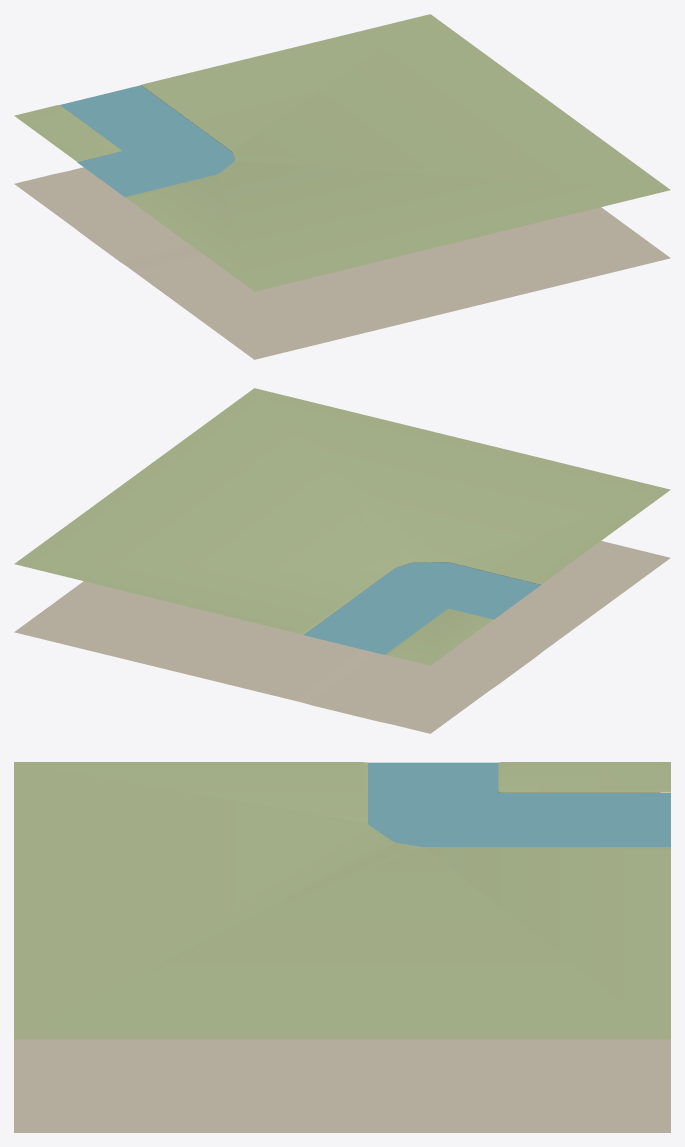
The picture shows the model from 3 angles, top to bottom: view 1: azimuth 30°, elevation 25°; view 2: azimuth 150°, elevation 25°; view 3: azimuth 270°, elevation 25°; orthographic projection. The views are drawn at different scales.
Visible parts, largest first — view 1: s_11_6__grass, s_11_6__soil, s_11_6__water; view 2: s_11_6__grass, s_11_6__soil, s_11_6__water; view 3: s_11_6__grass, s_11_6__soil, s_11_6__water.
Boxes of the visible parts, x1=… form: s_11_6__grass: x1=14, y1=14, x2=670, y2=291; s_11_6__soil: x1=14, y1=167, x2=670, y2=359; s_11_6__water: x1=60, y1=85, x2=234, y2=196; s_11_6__grass: x1=14, y1=388, x2=670, y2=665; s_11_6__soil: x1=14, y1=541, x2=670, y2=733; s_11_6__water: x1=304, y1=562, x2=540, y2=654; s_11_6__grass: x1=14, y1=762, x2=670, y2=1039; s_11_6__soil: x1=14, y1=1039, x2=670, y2=1132; s_11_6__water: x1=368, y1=762, x2=670, y2=846.
Size of the model in its own units: 128 by 20.14 by 128.
